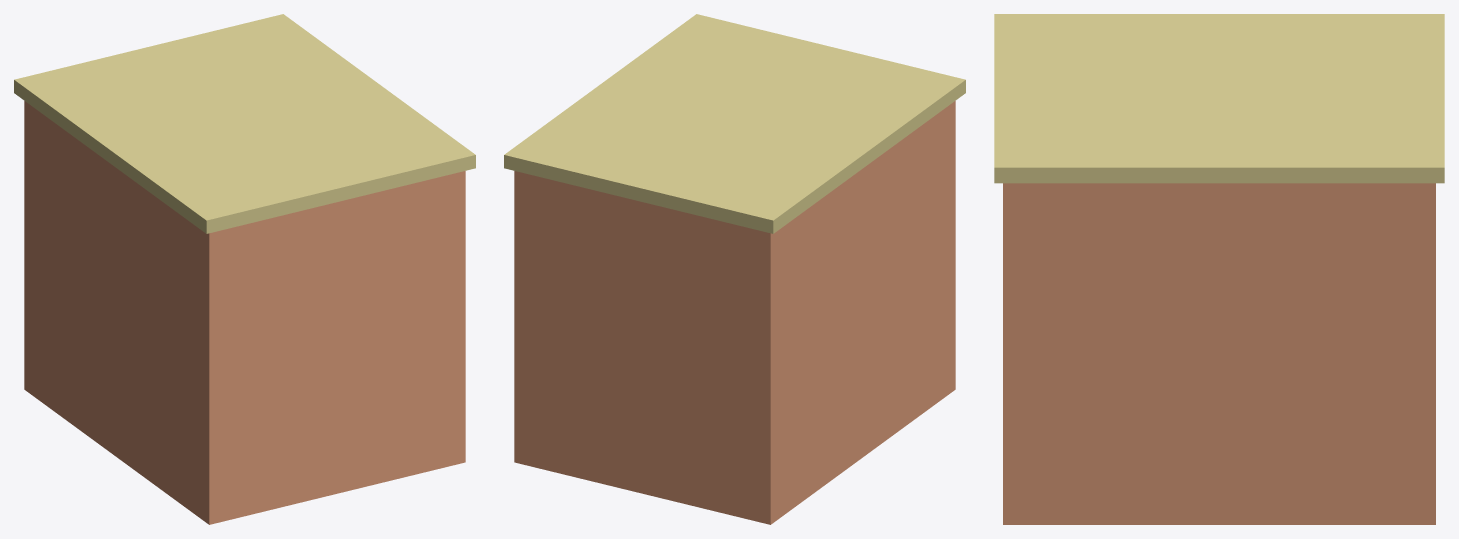
The picture shows the model from 3 angles, left to right: view 1: azimuth 30°, elevation 25°; view 2: azimuth 150°, elevation 25°; view 3: azimuth 270°, elevation 25°; orthographic projection. The views are drawn at different scales.
Visible parts, largest first — view 1: Cube; view 2: Cube; view 3: Cube.
Boxes of the visible parts, bbox=[...] form: Cube: bbox=[14, 14, 475, 524]; Cube: bbox=[504, 14, 965, 524]; Cube: bbox=[994, 14, 1444, 524].
Bounding box in the file's own units: 0.84 × 1.04 × 0.92.
